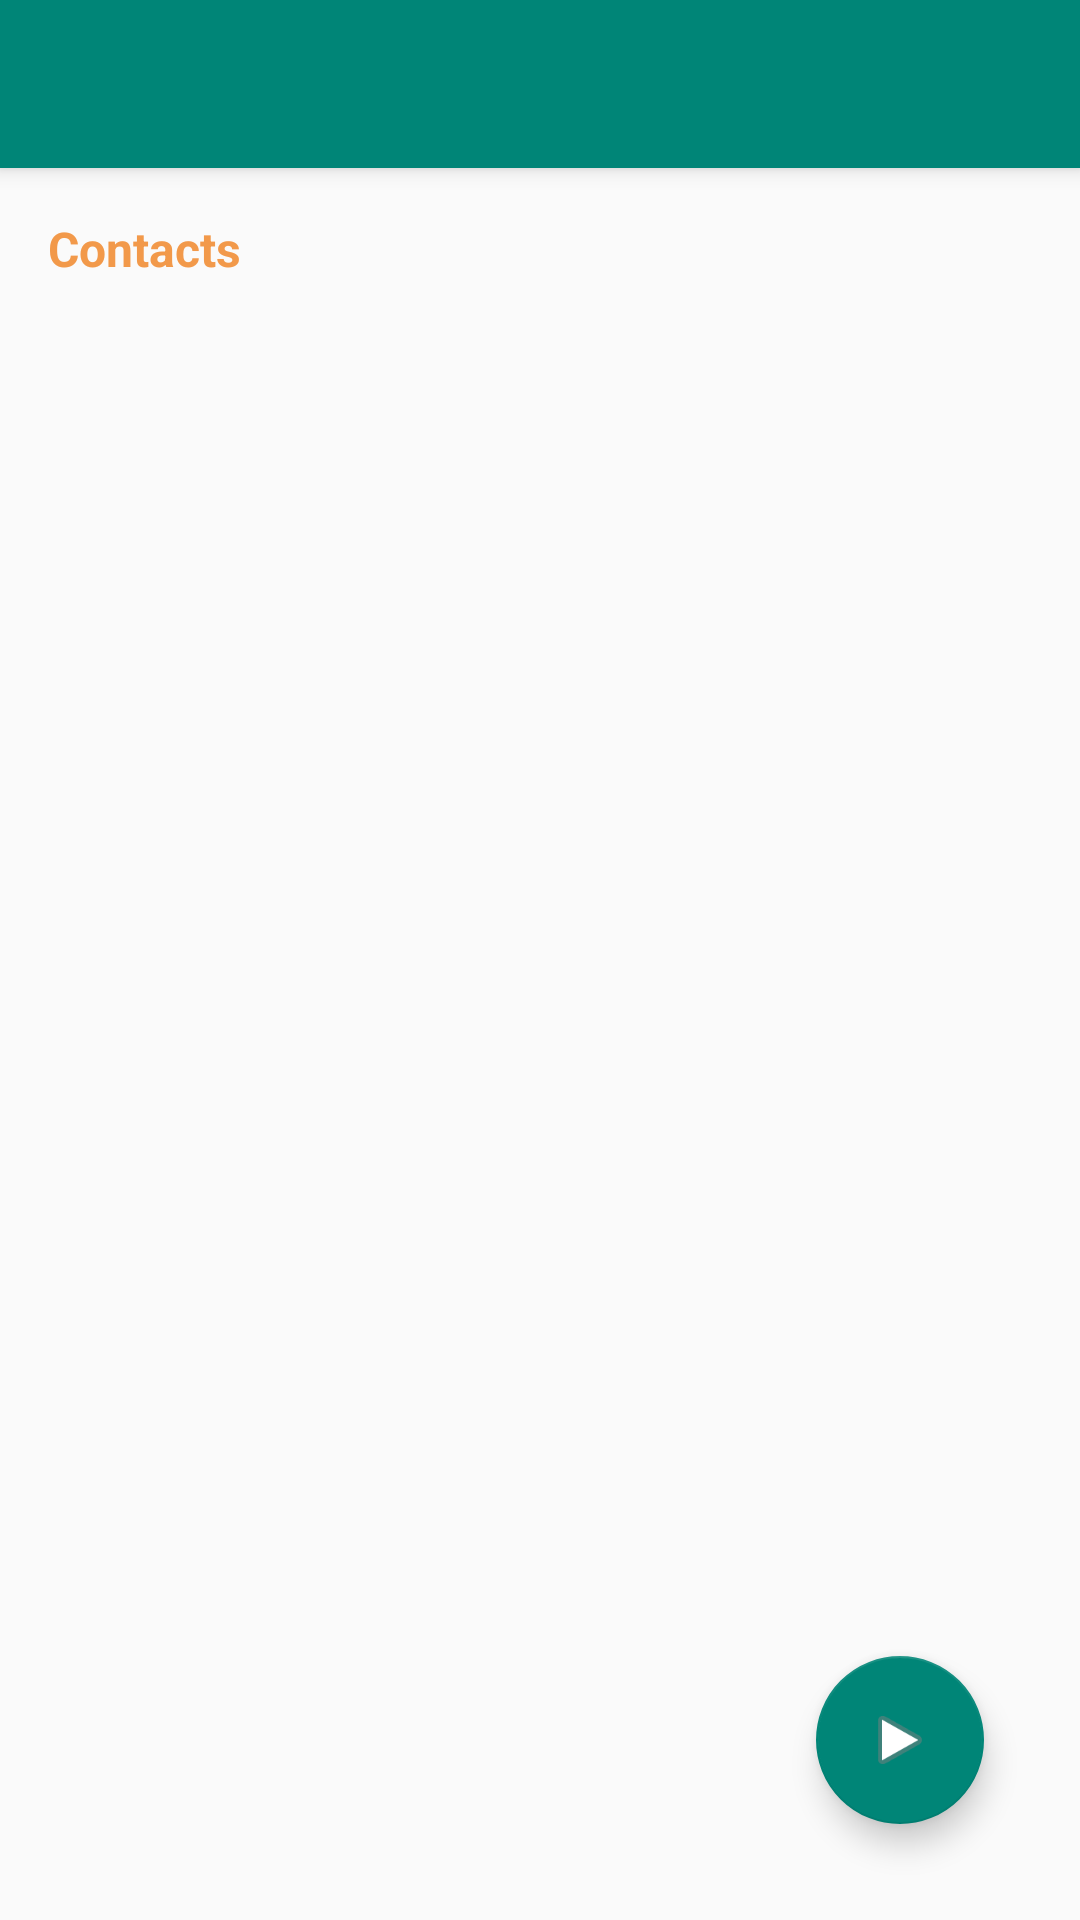

Where to tap for icons on this 1080×1920 app screen, as (x=x, y=y):
play: (x=900, y=1740)
